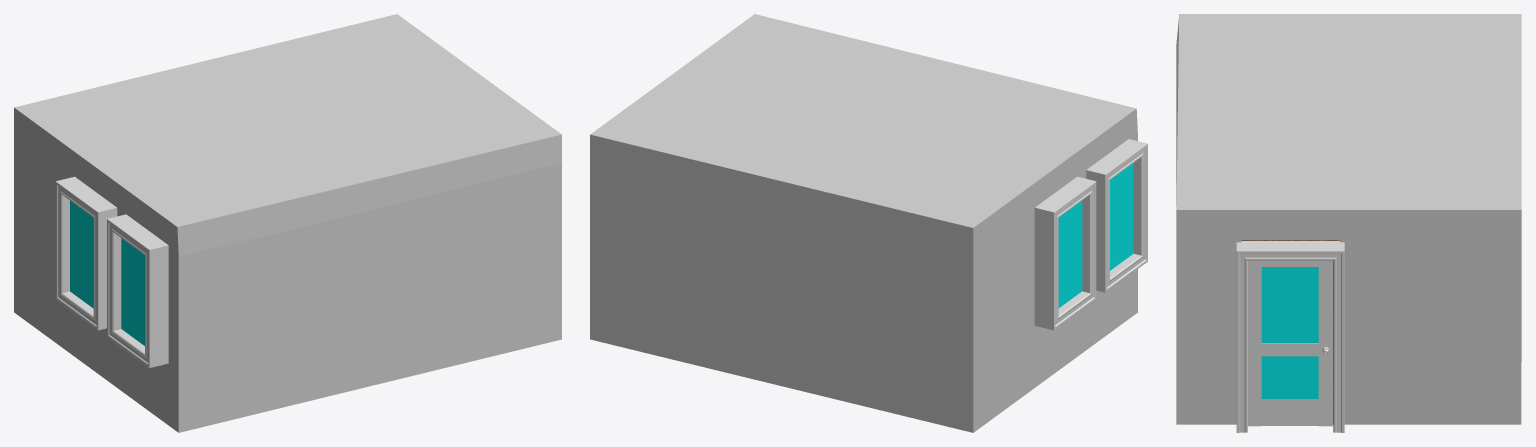
The model's file is Room.fbx.
3 views of the same model, side by side, from view 1: azimuth 30°, elevation 25°; view 2: azimuth 150°, elevation 25°; view 3: azimuth 270°, elevation 25° (orthographic). The views are drawn at different scales.
Parts seen in each view (by area): view 1: Room, SM_WindowFrame.001, SM_WindowFrame.000; view 2: Room, SM_WindowFrame.000, SM_WindowFrame.001; view 3: Room, SM_Door, SM_DoorFrame.
Part boxes in pixels (box(x1,y1,x2,y2)): Room: box(14, 14, 561, 432); SM_WindowFrame.001: box(107, 214, 168, 367); SM_WindowFrame.000: box(55, 176, 117, 330); Room: box(590, 14, 1137, 432); SM_WindowFrame.000: box(1034, 176, 1096, 330); SM_WindowFrame.001: box(1086, 139, 1147, 292); Room: box(1176, 14, 1521, 424); SM_Door: box(1248, 260, 1332, 426); SM_DoorFrame: box(1236, 241, 1344, 432).
Size of the model in its own units: 536 by 250 by 364.
